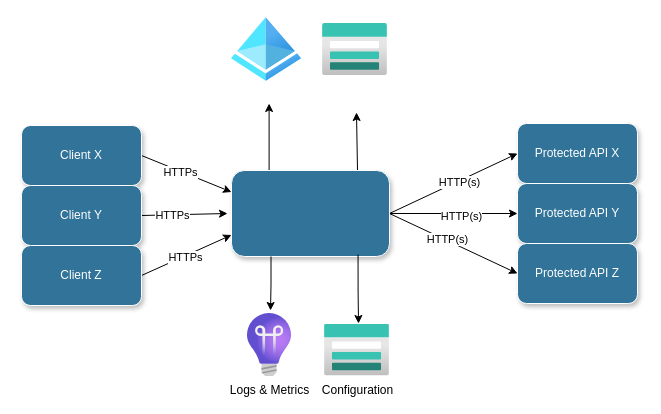
Some shapes in this 661 by 414 pixel diagram are drawn without their labels. Here are the shapes that lost their labels. From the top down, the centre of each, then its label:
At point (266, 49): "AAD".
At point (354, 49): "Subscriptions & API Keys".
At point (311, 215): "Secured API Gateway".
